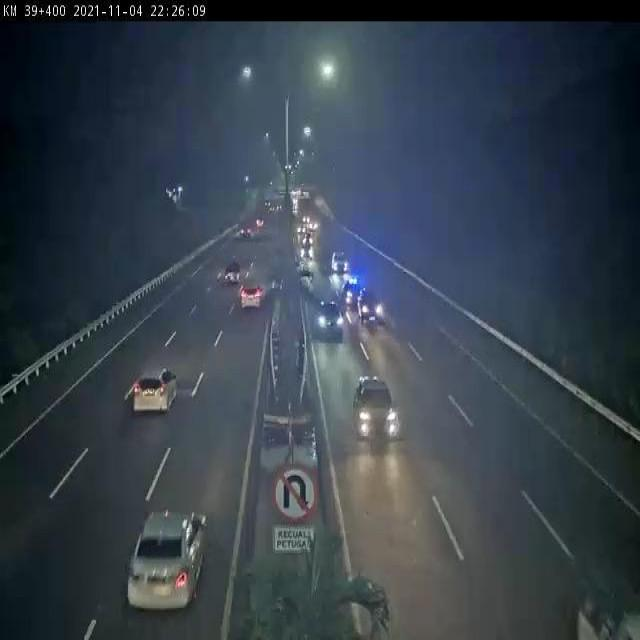car: (125, 496, 218, 613), (566, 565, 633, 640), (128, 348, 190, 421), (348, 366, 400, 451), (306, 280, 344, 359), (346, 272, 385, 343), (242, 268, 267, 317), (221, 255, 247, 282)
